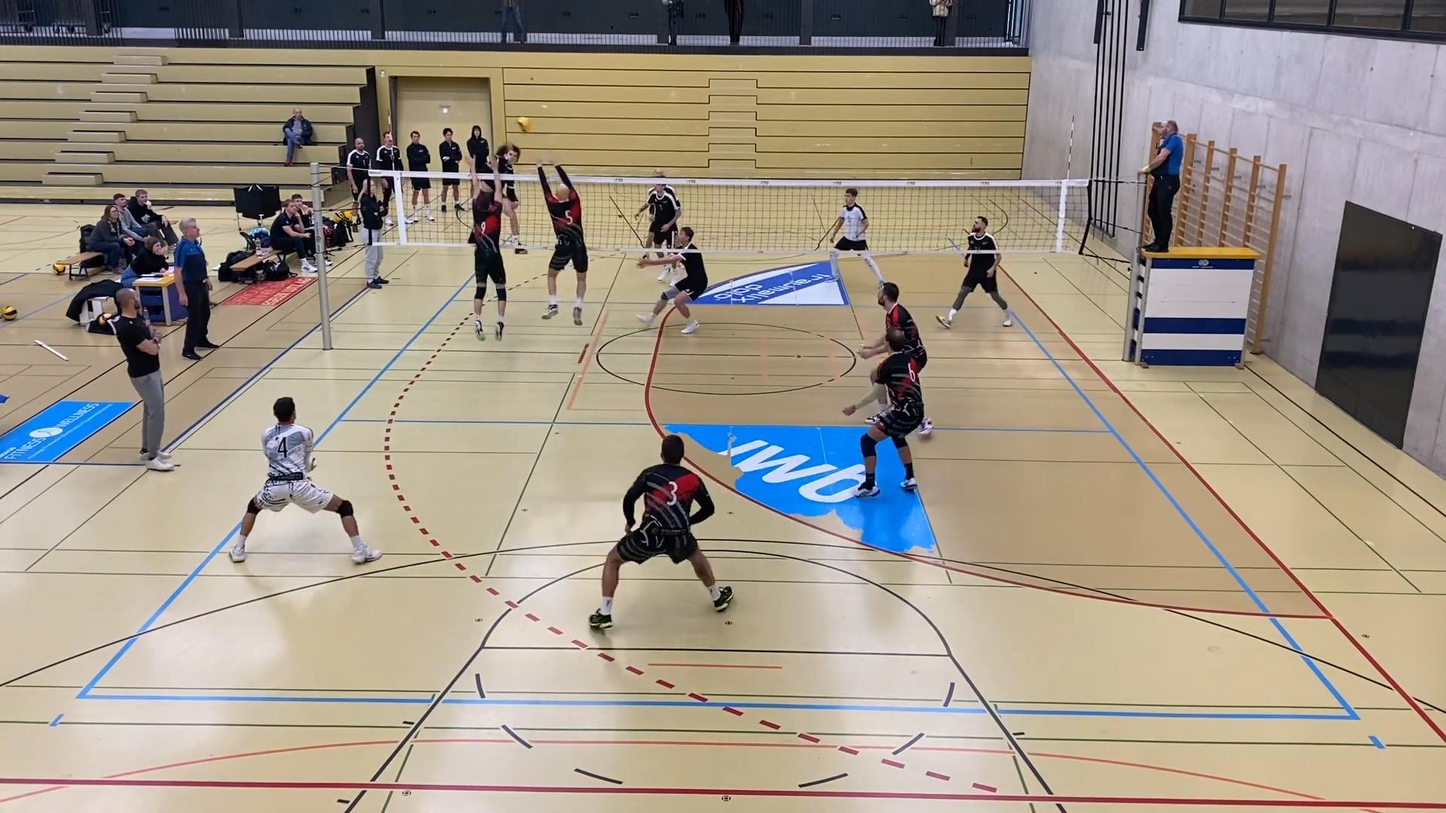muro: (525, 157, 592, 324), (465, 152, 513, 343)
